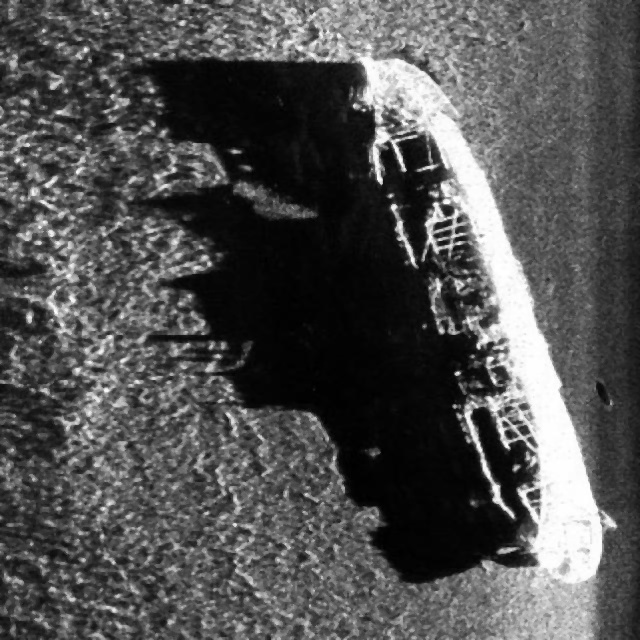Ship: (336, 45, 627, 590)
